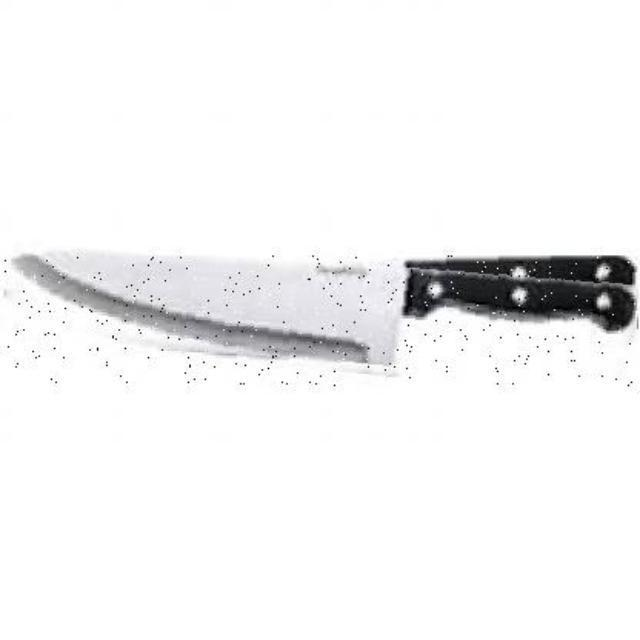Knife: (6, 256, 638, 386)
